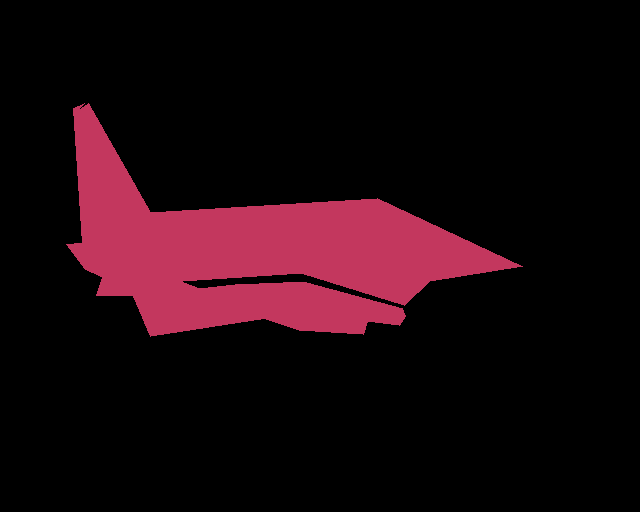Airplane: (73, 103, 522, 306), (66, 240, 406, 336)
